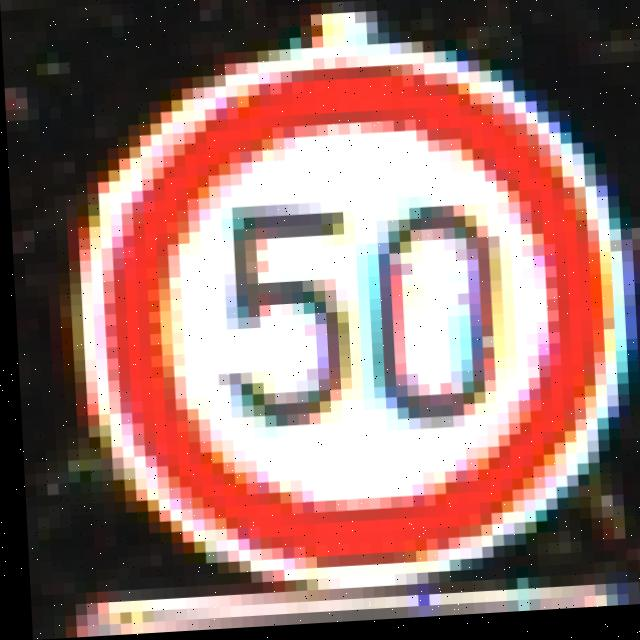speed_limit_50: (65, 33, 640, 594)
